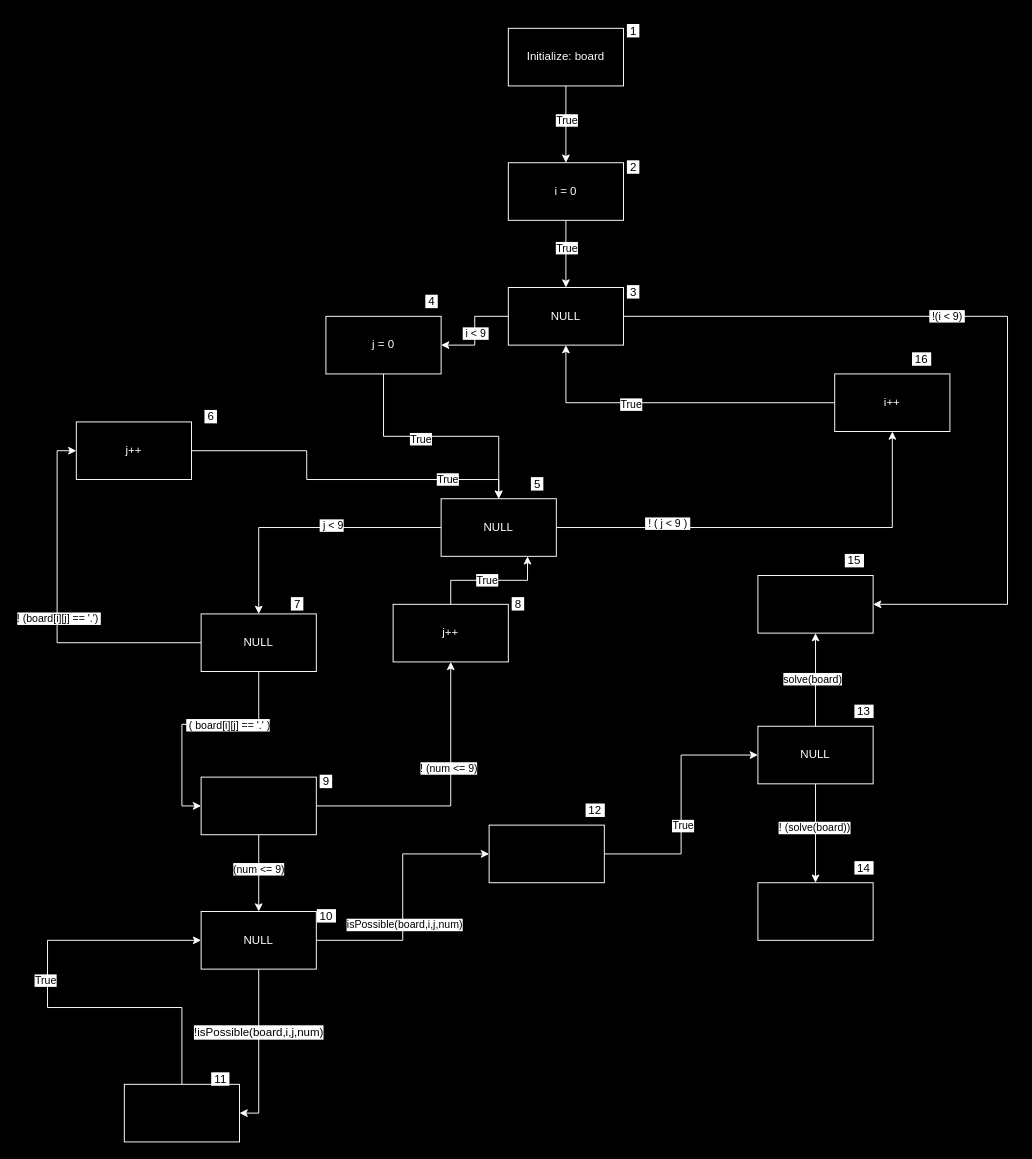
The diagram is 1032 pixels wide and 1159 high, and some of its shapes have lost their labels. Each missing label, with the centre of its shape:
"board[i][j] = num;" belongs at point 546,853.
"num = 'i'" belongs at point 258,805.
"num++;" belongs at point 181,1112.
"return false" belongs at point 815,911.
"return true" belongs at point 815,604.
